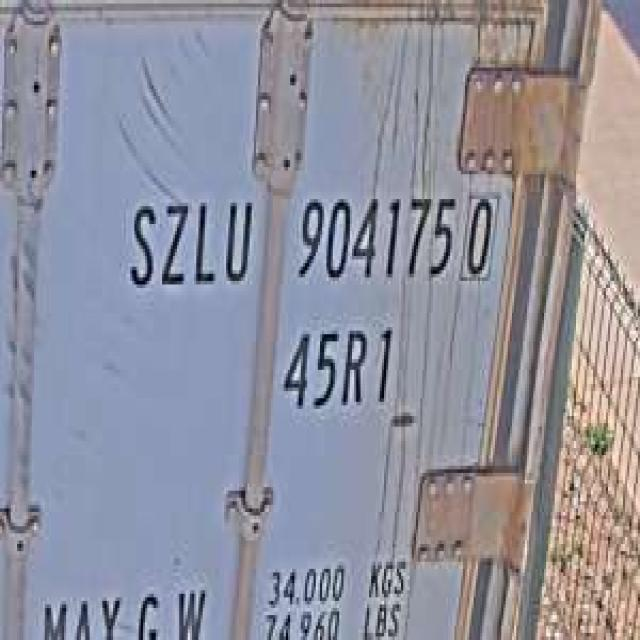dv: (459, 182, 501, 284)
owner: (119, 181, 256, 299)
serial: (290, 178, 455, 292)
size: (275, 313, 399, 419)
